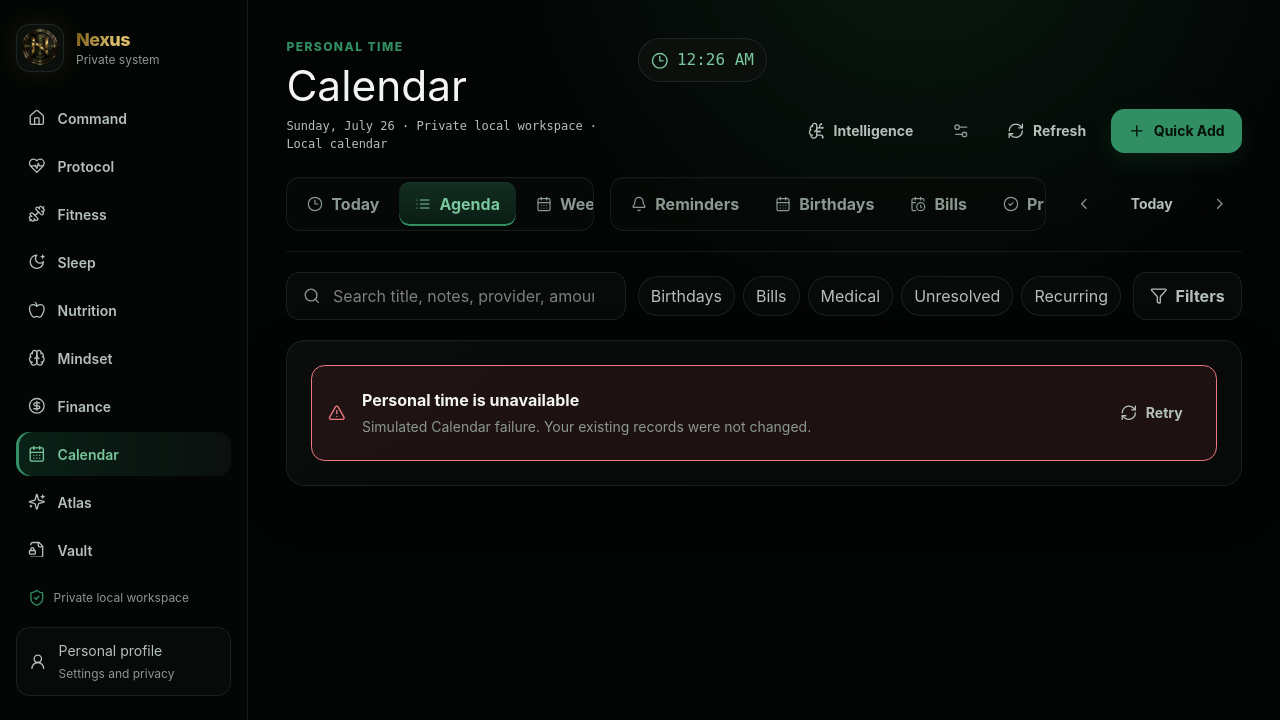
Scenario: Calendar workflow › preserves the empty view and exposes recovery after a load failure
Expected: the heading "Personal time is unavailable" is shown, [362,390,579,410]
Step 1. Click the button "Retry" → coordinates (1151, 413), box [1103,391,1200,435]
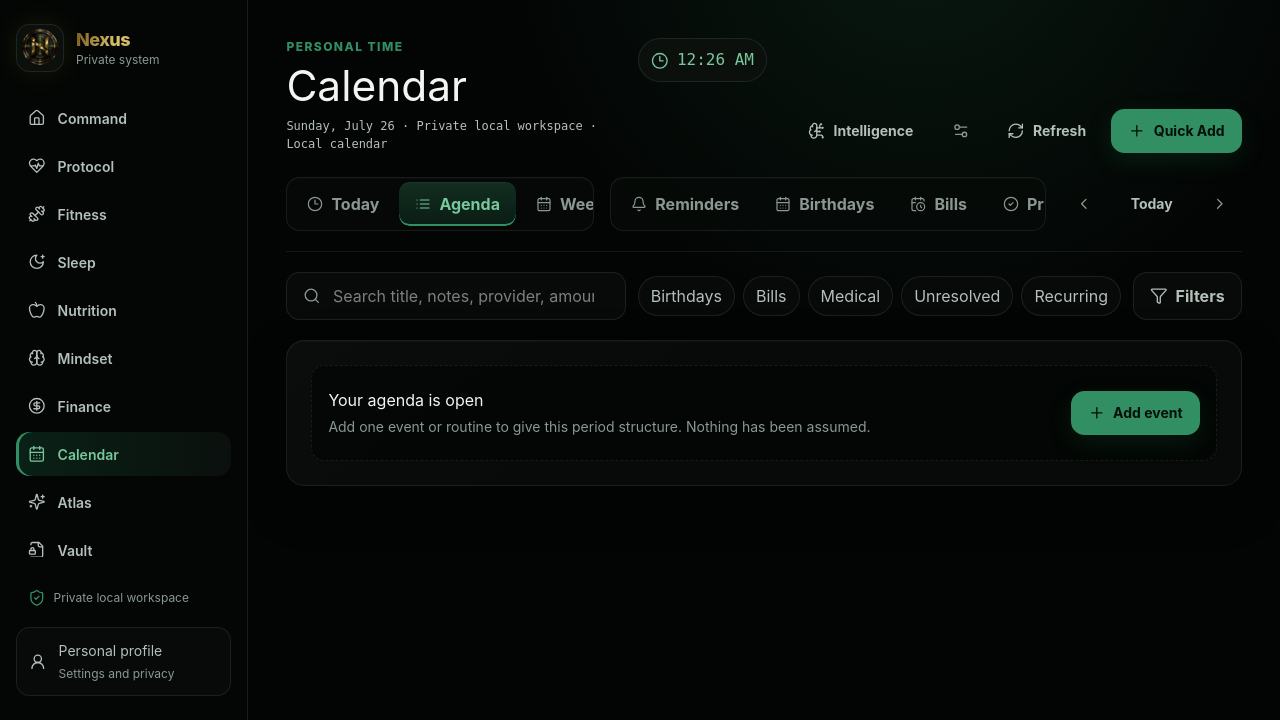
Result: the heading "Your agenda is open" is shown at [328,390,484,410]
